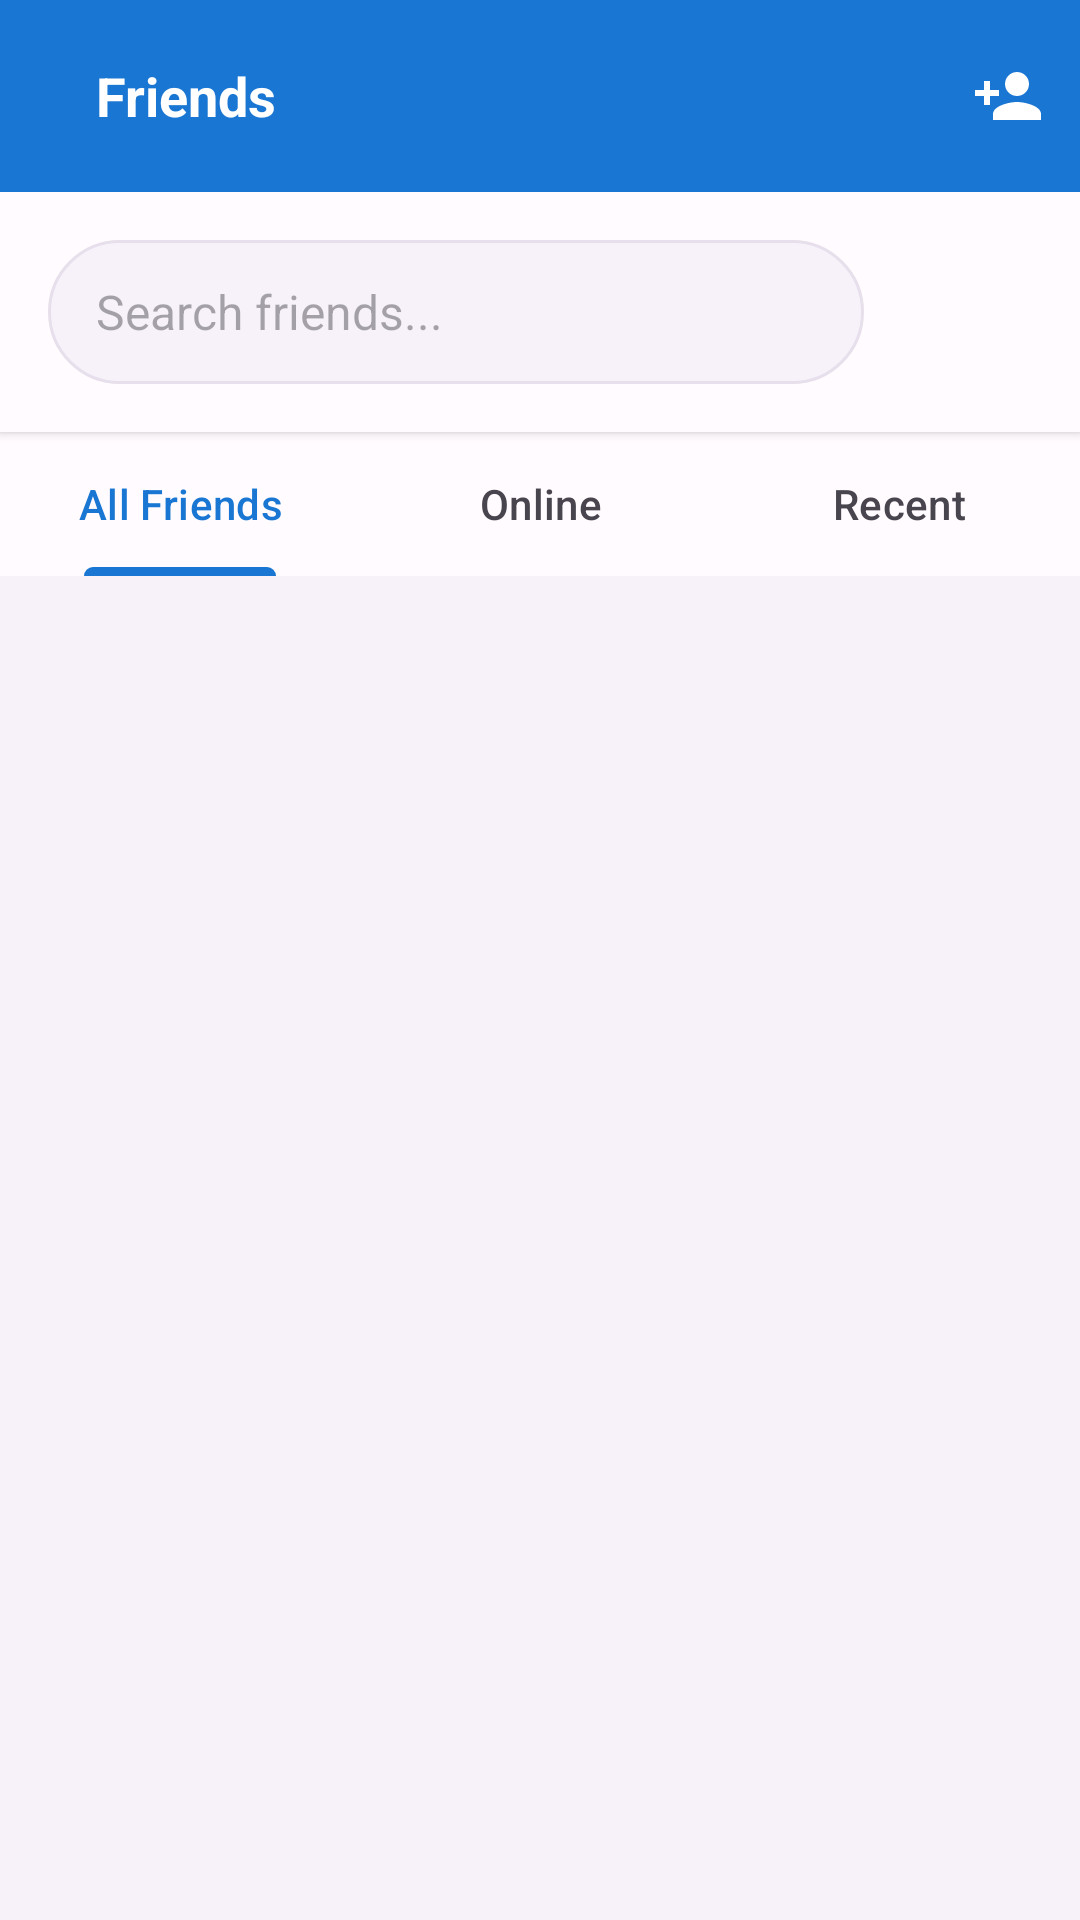

Where icons sit on this 1080px x 1920px app screen, as bbox=[x1, y1, x2, y2]:
Add Friend: bbox=[975, 72, 1041, 120]
